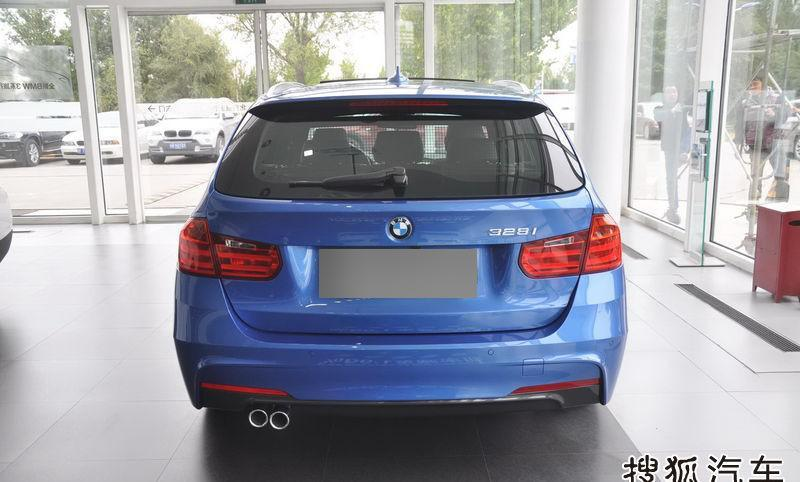Wagon: (172, 65, 631, 430)
